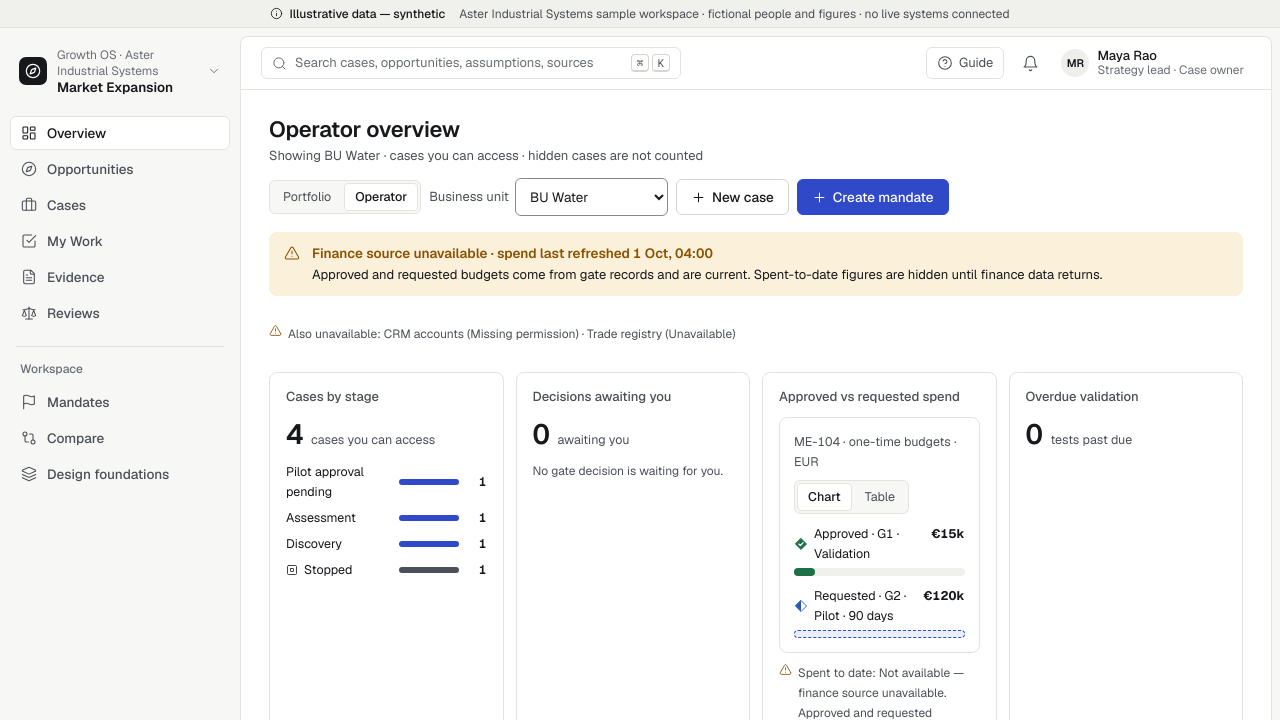
Scenario: first login › does not open by itself when this browser opted out (automation), but the guide still works
Click the button "Guide" at (965, 63), box [926, 47, 1004, 79]
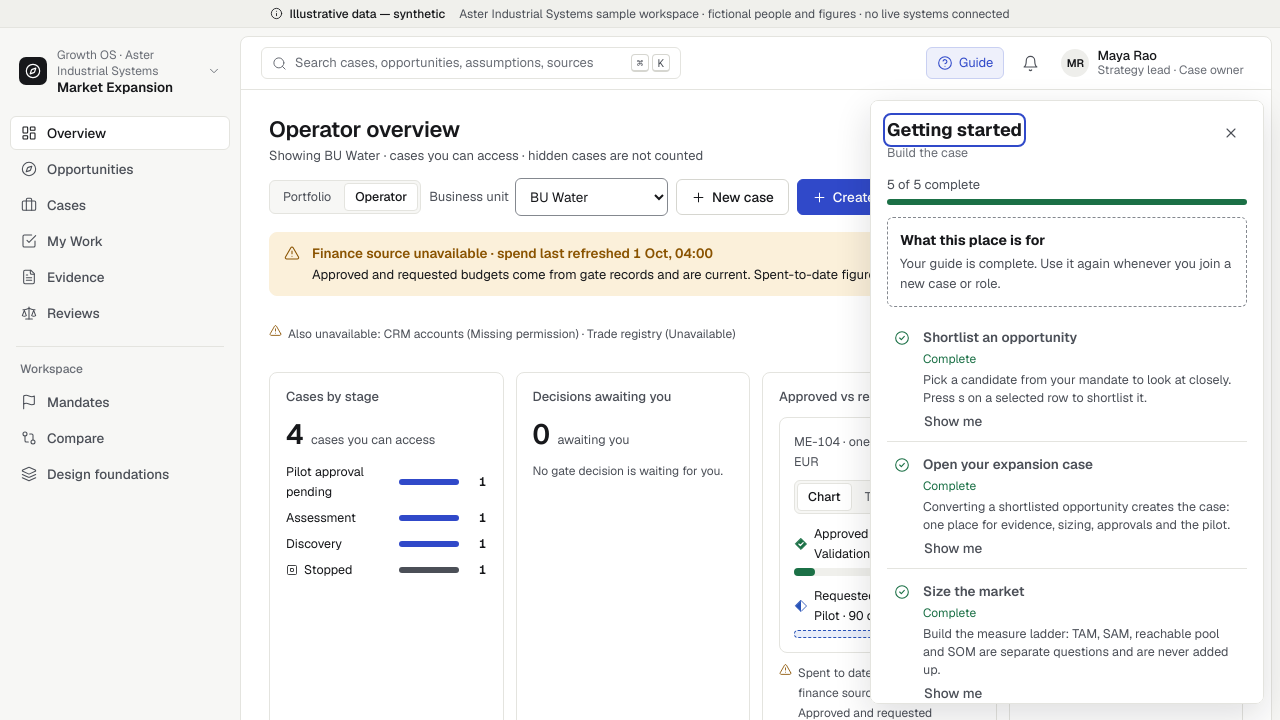
expect the element "Getting started" is shown: met, box [870, 100, 1264, 704]
